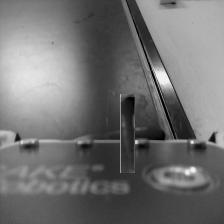Door Handle: (104, 110, 152, 157)
